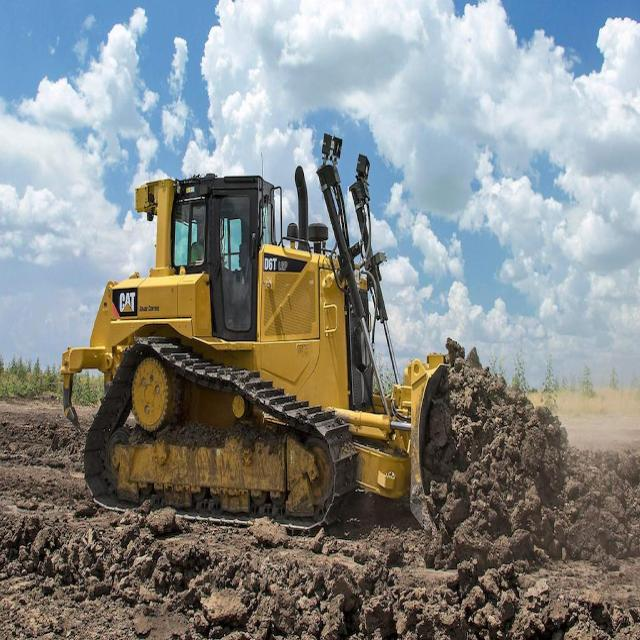buldozerpayloadergrader: (62, 130, 504, 553)
